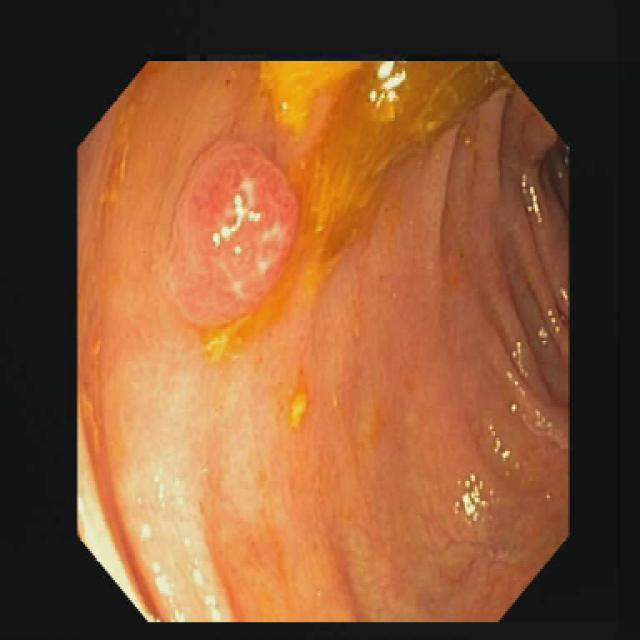tumor: (173, 140, 295, 322)
